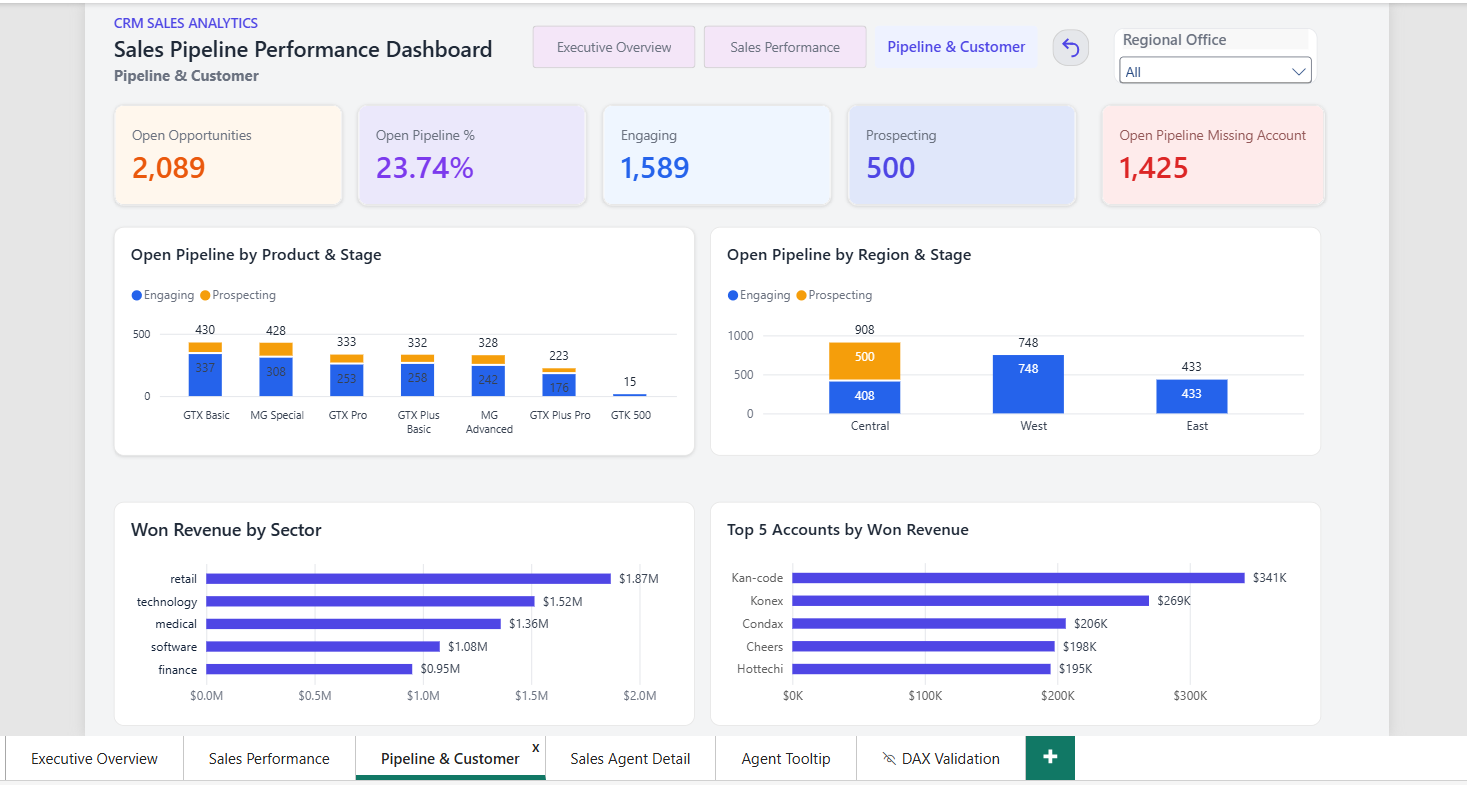

The dashboard page shown, as its layout file describes it:
{"tool":"powerbi","page":{"name":"Pipeline & Customer","canvas":[1280,720],"ordinal":3},"visuals":[{"type":"cardVisual","fields":{"Data":["_Measures.Open Opportunities"]},"box":[28,100,225,100],"z":3},{"type":"cardVisual","fields":{"Data":["_Measures.Open Pipeline %"]},"box":[268,100,225,100],"z":4},{"type":"cardVisual","fields":{"Data":["_Measures.Engaging Opportunities"]},"box":[508,100,225,100],"z":5},{"type":"cardVisual","fields":{"Data":["_Measures.Prospecting Opportunities"]},"box":[748,100,225,100],"z":6},{"type":"cardVisual","fields":{"Data":["_Measures.Open Opportunities Missing Account"]},"box":[998,100,220,100],"z":7},{"type":"columnChart","title":"Open Pipeline by Product & Stage","fields":{"Category":["products.product"],"Series":["sales_pipeline.deal_stage"],"Y":["_Measures.Total Opportunities"]},"box":[28,220,570,225],"z":8},{"type":"columnChart","title":"Open Pipeline by Region & Stage","fields":{"Category":["sales_teams.regional_office"],"Series":["sales_pipeline.deal_stage"],"Y":["_Measures.Total Opportunities"]},"box":[613,220,600,225],"z":9},{"type":"clusteredBarChart","title":"Won Revenue by Sector","fields":{"Category":["accounts.sector"],"Y":["_Measures.Won Revenue"]},"box":[28,490,570,220],"z":10},{"type":"clusteredBarChart","title":"Top 5 Accounts by Won Revenue","fields":{"Category":["accounts.account"],"Y":["_Measures.Won Revenue"]},"box":[613,490,600,220],"z":11},{"type":"textbox","box":[28,29,420,32],"z":14},{"type":"textbox","box":[28,10,200,18],"z":15},{"type":"textbox","box":[28,60,200,22],"z":16},{"type":"actionButton","box":[950,26,36,36],"z":18},{"type":"slicer","fields":{"Values":["sales_teams.regional_office"]},"box":[1010,25,200,55],"z":19},{"type":"pageNavigator","box":[439,22,496,42],"z":20}]}

Visuals, with their boxes on the page's 1280x720 design canvas (x1, y1, x2, y2). These are canvas units, not pixel positions in the 1467x785 screenshot, which may show the page scaled, cropped or inside an application window:
cardVisual - _Measures.Open Opportunities: l=28, t=100, r=253, b=200
cardVisual - _Measures.Open Pipeline %: l=268, t=100, r=493, b=200
cardVisual - _Measures.Engaging Opportunities: l=508, t=100, r=733, b=200
cardVisual - _Measures.Prospecting Opportunities: l=748, t=100, r=973, b=200
cardVisual - _Measures.Open Opportunities Missing Account: l=998, t=100, r=1218, b=200
"Open Pipeline by Product & Stage" columnChart: l=28, t=220, r=598, b=445
"Open Pipeline by Region & Stage" columnChart: l=613, t=220, r=1213, b=445
"Won Revenue by Sector" clusteredBarChart: l=28, t=490, r=598, b=710
"Top 5 Accounts by Won Revenue" clusteredBarChart: l=613, t=490, r=1213, b=710
textbox: l=28, t=29, r=448, b=61
textbox: l=28, t=10, r=228, b=28
textbox: l=28, t=60, r=228, b=82
actionButton: l=950, t=26, r=986, b=62
slicer - sales_teams.regional_office: l=1010, t=25, r=1210, b=80
pageNavigator: l=439, t=22, r=935, b=64
